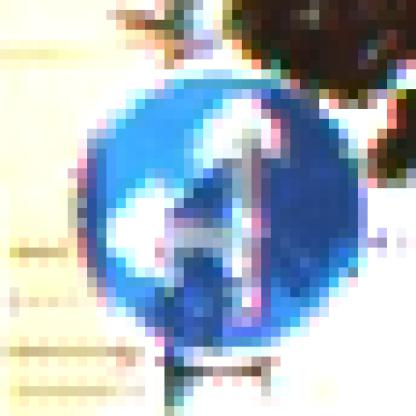Straight or Left: (59, 51, 369, 368)
